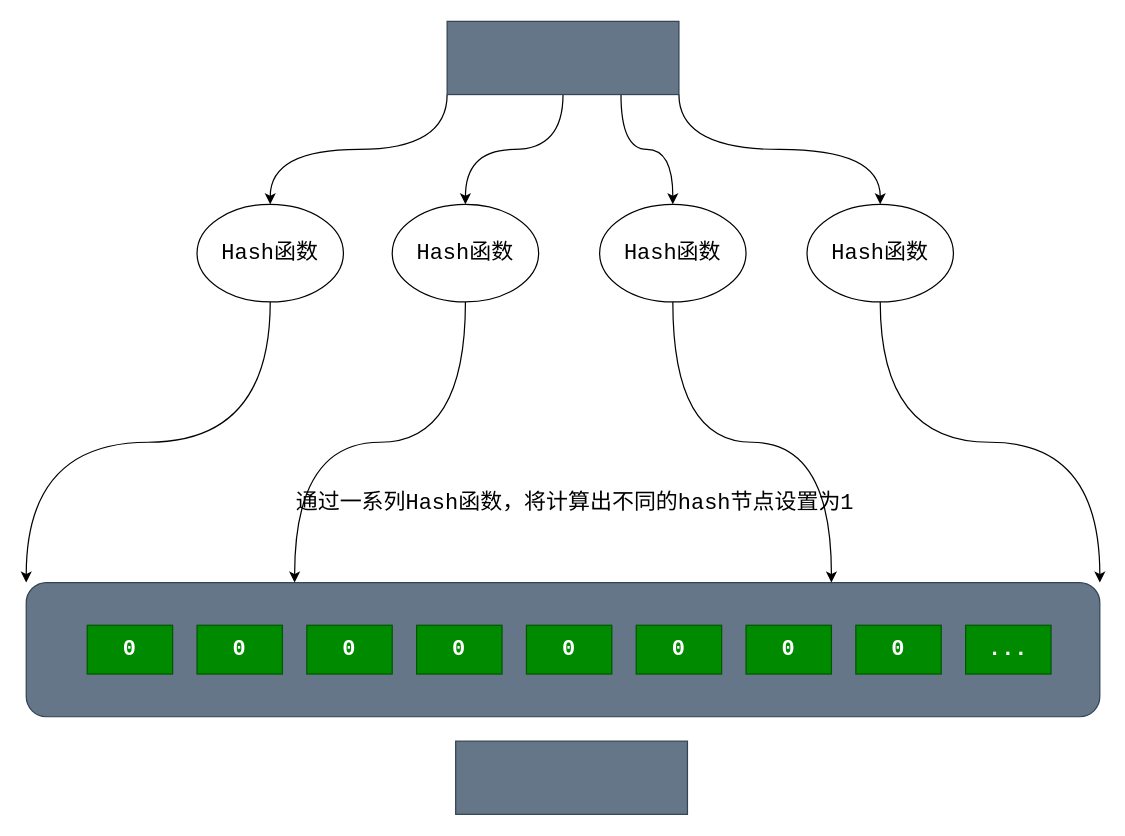
Image size: 1125x836. Some labels were removed from this diagram. Here are the shapes that lost their labels. From the top down, the box of each, then its label:
(446, 20, 679, 95): 对象
(454, 740, 687, 814): 大容量的位数组
